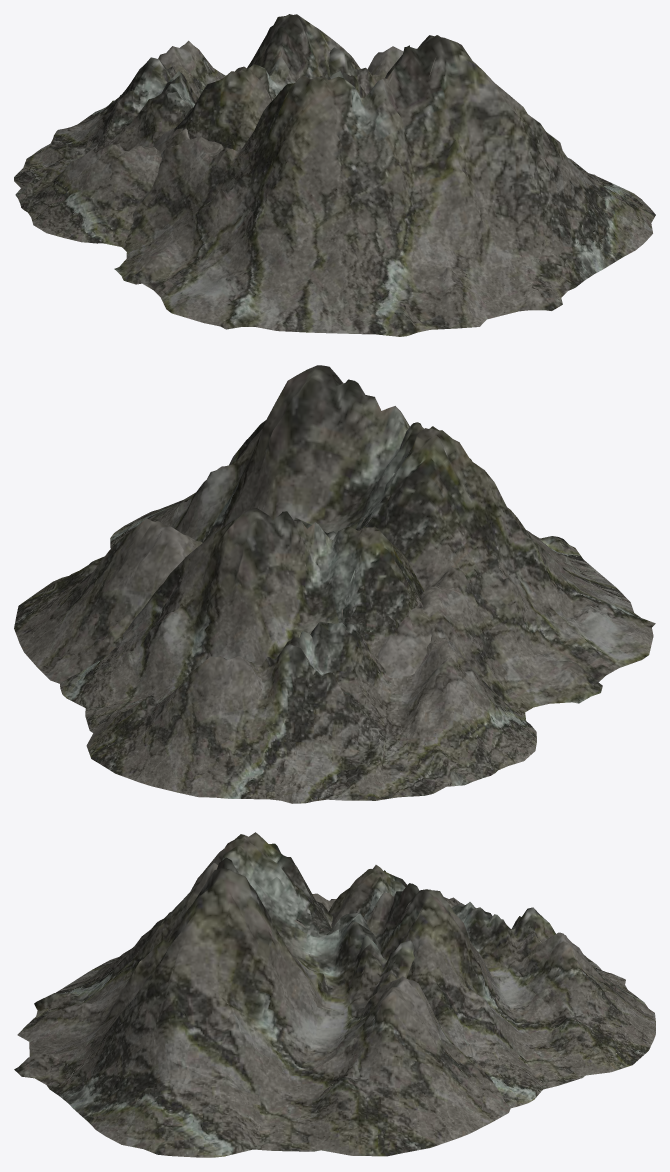
Rendered from SIDE MOUNTAIN.fbx.
3 renders of one model, top to bottom at view 1: azimuth 30°, elevation 25°; view 2: azimuth 150°, elevation 25°; view 3: azimuth 270°, elevation 25°, orthographic. The views are drawn at different scales.
Visible parts, largest first — view 1: Mountain; view 2: Mountain; view 3: Mountain.
Part boxes in pixels (x1,y1,x2,y2): Mountain: (14, 14, 655, 336); Mountain: (14, 365, 655, 803); Mountain: (14, 832, 655, 1157).
Bounding box in the file's own units: 28706 × 11301 × 33340.
1 material, 1 textured.
